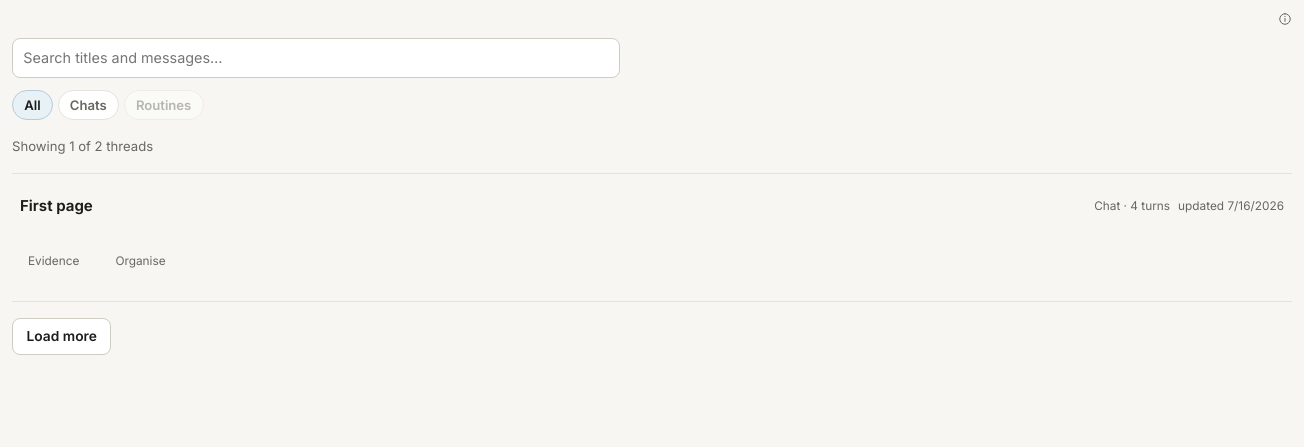
Test: SearchChatView › loads the next page instead of pretending there is none
The image size is (1304, 447).
Check: the text "First page" is shown, box top-left (20, 196), bottom-right (93, 215)
Click the button "Load more".
click(62, 336)  # box top-left (12, 318), bottom-right (112, 355)
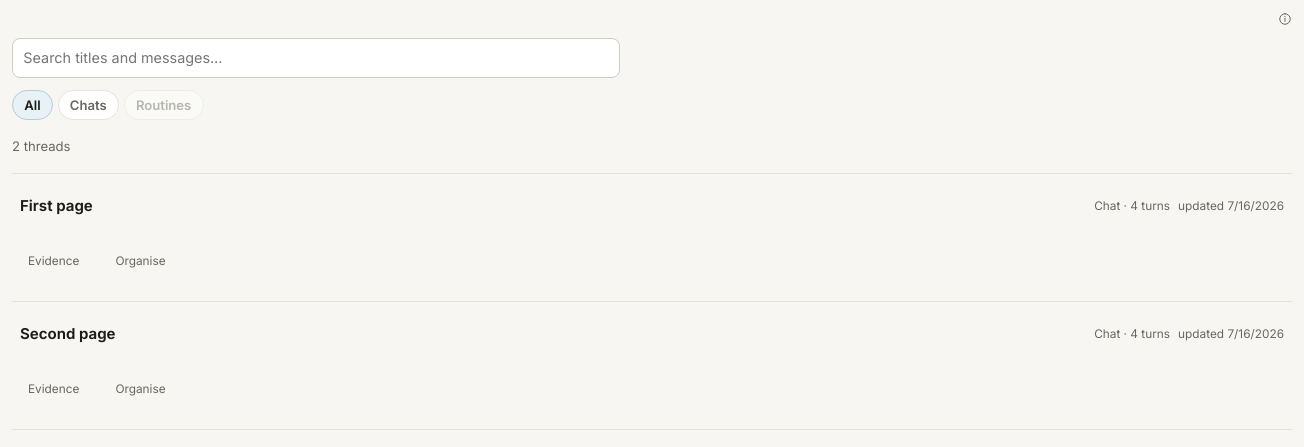
Check: the text "First page" is shown, box top-left (20, 196), bottom-right (93, 215)
Check: the text "Second page" is shown, box top-left (20, 324), bottom-right (116, 343)
Check: the button "Load more" is gone
